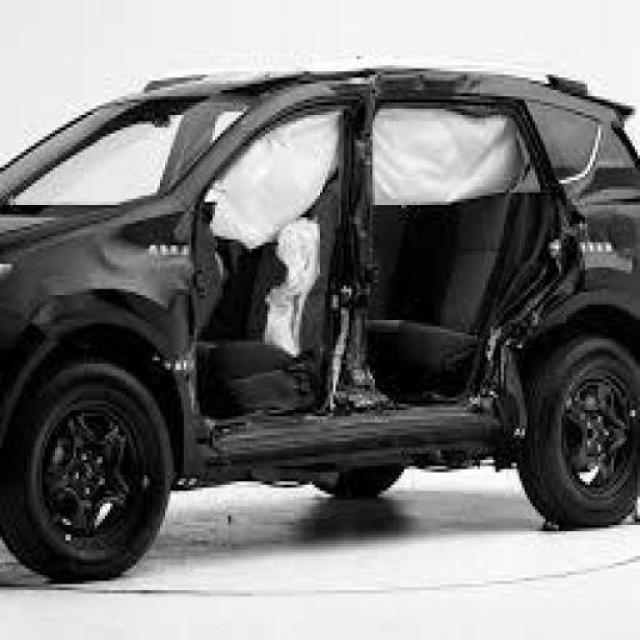missing: (90, 66, 630, 481)
